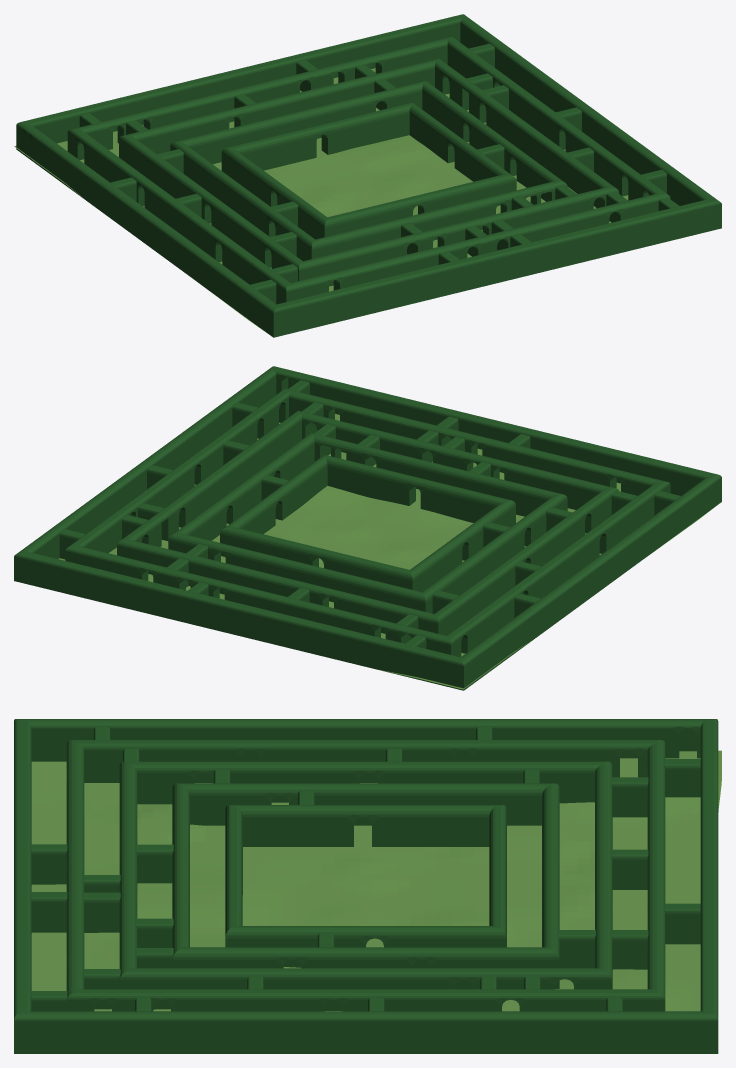
Rendered from Maze 3.fbx.
3 renders of one model, top to bottom at view 1: azimuth 30°, elevation 25°; view 2: azimuth 150°, elevation 25°; view 3: azimuth 270°, elevation 25°, orthographic. The views are drawn at different scales.
Parts seen in each view (by area): view 1: Walls 1.003, Walls 2.003, Walls 3.003, Walls 4.004, Walls 5.003, Floor.004; view 2: Walls 1.003, Walls 2.003, Walls 3.003, Walls 4.004, Walls 5.003, Floor.004; view 3: Floor.004, Walls 1.003, Walls 2.003, Walls 3.003, Walls 4.004, Walls 5.003, Bush Blocker.067, Bush Blocker.070, Bush Blocker.071, Bush Blocker.052, Bush Blocker.055, Bush Blocker.051 (+9 smaller).
Boxes of the visible parts, x1,y1,x2,y2 form: Walls 1.003: (16,14,721,337); Walls 2.003: (67,36,670,304); Walls 3.003: (119,58,619,286); Walls 4.004: (170,80,567,261); Walls 5.003: (221,102,516,239); Floor.004: (14,68,628,331); Walls 1.003: (14,366,721,690); Walls 2.003: (65,388,670,657); Walls 3.003: (117,411,618,635); Walls 4.004: (168,433,567,613); Walls 5.003: (220,455,515,591); Floor.004: (58,414,714,689); Floor.004: (31,750,721,1011); Walls 1.003: (14,719,718,1053); Walls 2.003: (66,740,665,1011); Walls 3.003: (119,761,612,1010); Walls 4.004: (172,783,559,989); Walls 5.003: (225,805,506,968); Bush Blocker.067: (665,903,700,944); Bush Blocker.070: (611,849,648,889); Bush Blocker.071: (611,777,648,817); Bush Blocker.052: (31,844,67,884); Bush Blocker.055: (84,892,120,932); Bush Blocker.051: (31,892,67,932).
Bounding box in the file's own units: 6009 × 368 × 5992.
